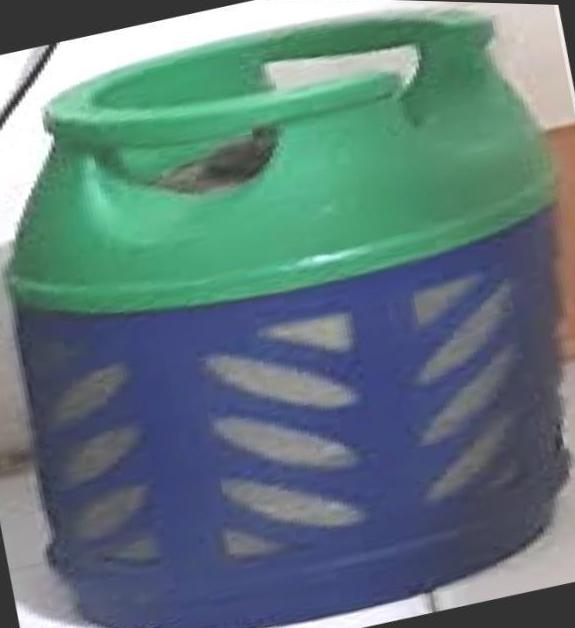cylinder: (1, 1, 575, 628)
